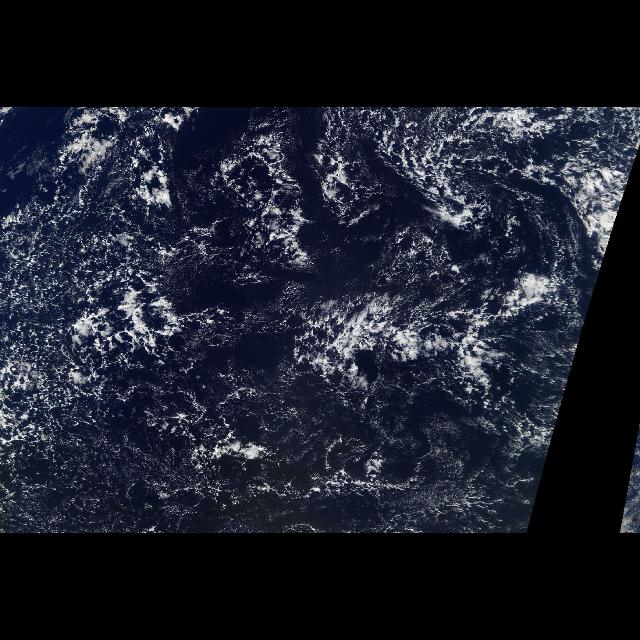Gravel: (2, 116, 574, 524)
